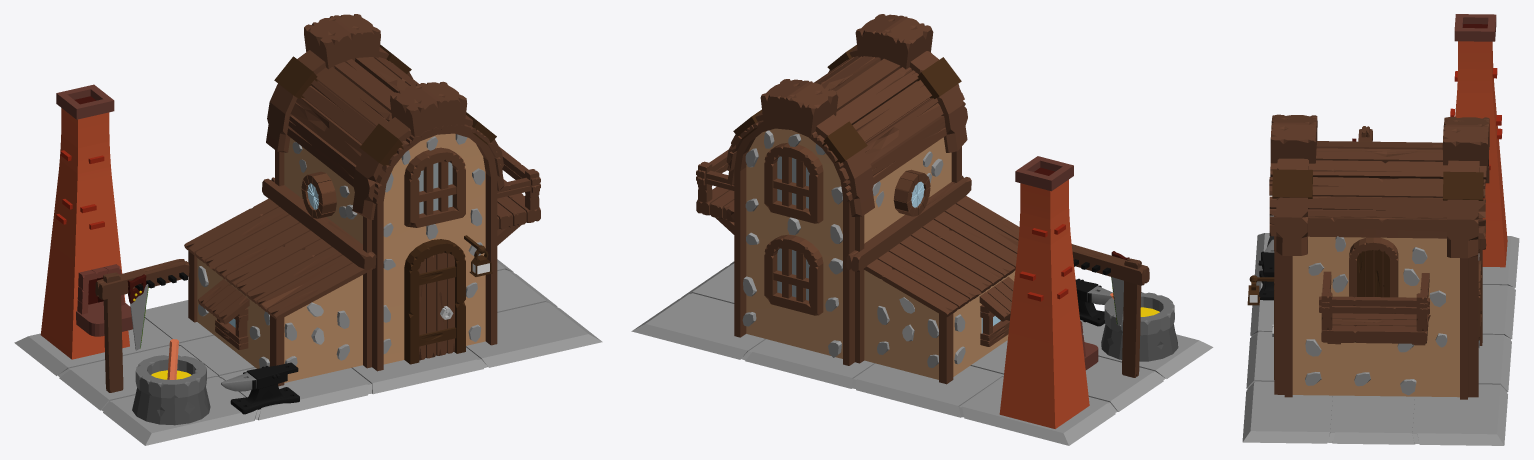
Rendered from CasaFerreira.fbx.
The picture shows the model from 3 angles, left to right: view 1: azimuth 30°, elevation 25°; view 2: azimuth 150°, elevation 25°; view 3: azimuth 270°, elevation 25°; orthographic projection. The views are drawn at different scales.
Parts seen in each view (by area): view 1: CasaFerreira; view 2: CasaFerreira; view 3: CasaFerreira.
Boxes of the visible parts, <box> form: CasaFerreira: <box>14,14,602,445</box>; CasaFerreira: <box>631,14,1213,445</box>; CasaFerreira: <box>1242,14,1519,445</box>.
Size of the model in its own units: 1855 by 1030 by 1029.
